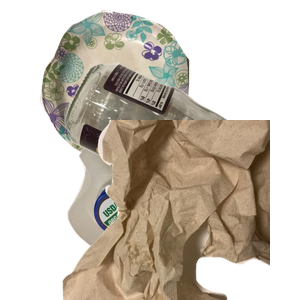glass: (62, 60, 300, 240)
paper: (37, 10, 219, 167)
plastic: (65, 123, 257, 300)
trash: (60, 120, 300, 300)
